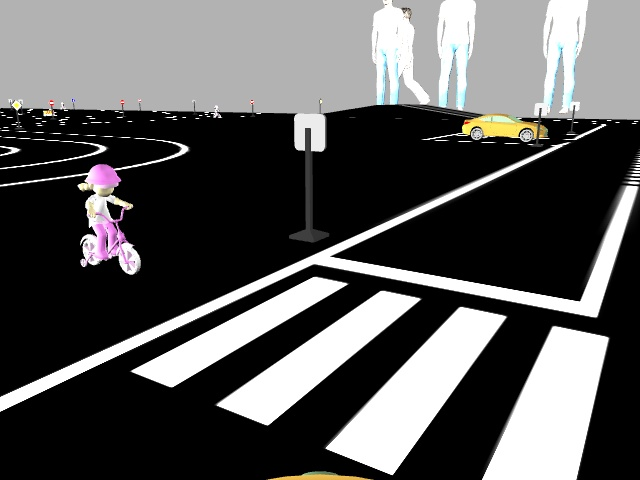Pedestrian: (67, 161, 143, 277)
